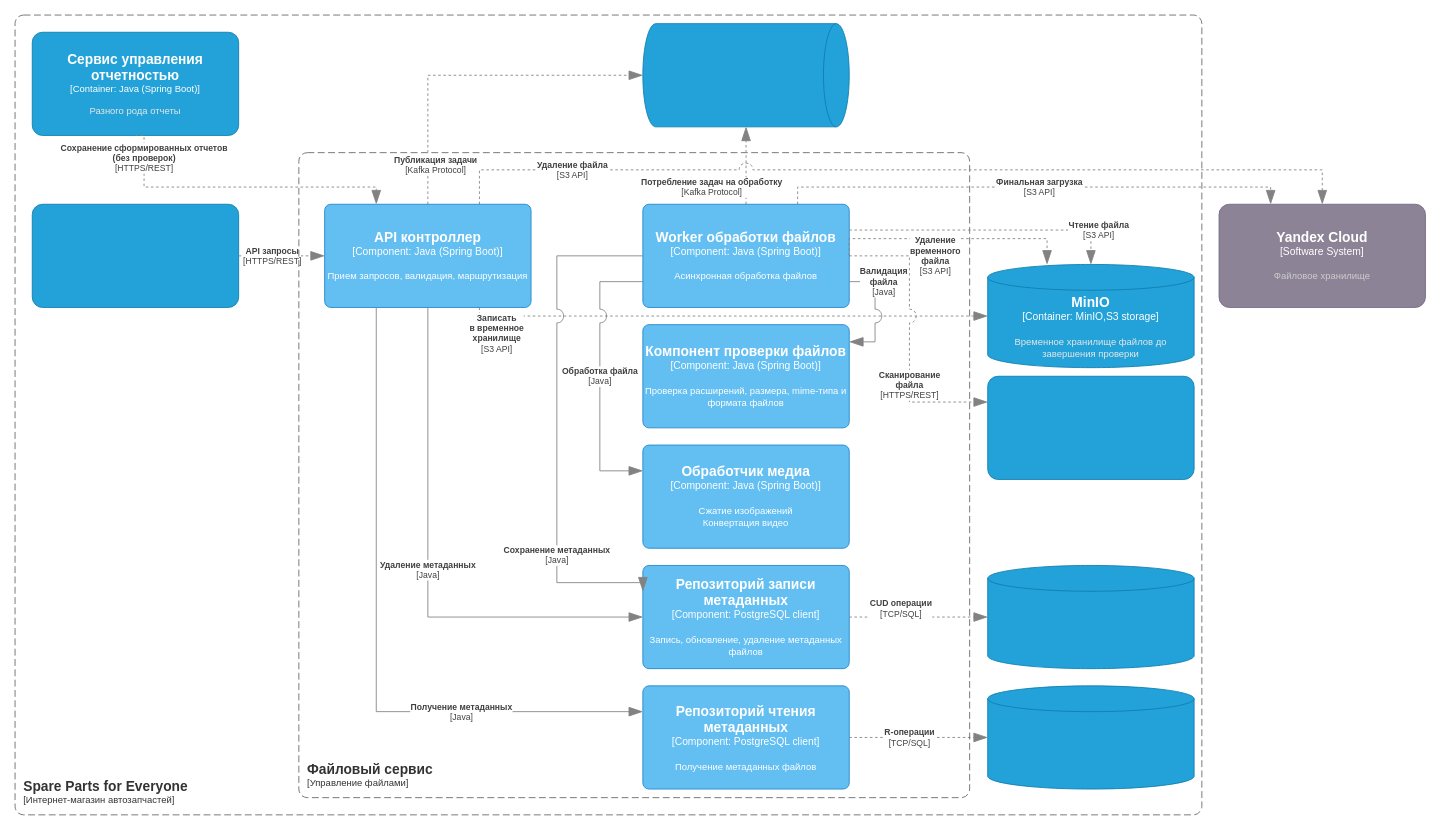
Some shapes in this 1441 by 830 pixel diagram are drawn without their labels. Here are the shapes that lost their labels. From the top down, the box of each, then its label:
(642, 23, 849, 127): Брокер сообщений [Container: Apache Kafka]
(31, 203, 239, 307): API Gateway [Container: Spring Cloud]
(987, 375, 1194, 479): Антивирус [Container: KESL] Сканирование файлов на вредоносное ПО
(987, 565, 1194, 669): База данных (запись) [Container: Spring Data JPA/PostgreSQL]
(987, 685, 1194, 789): База данных (чтение) [Container: Spring Data JPA/PostgreSQL]
